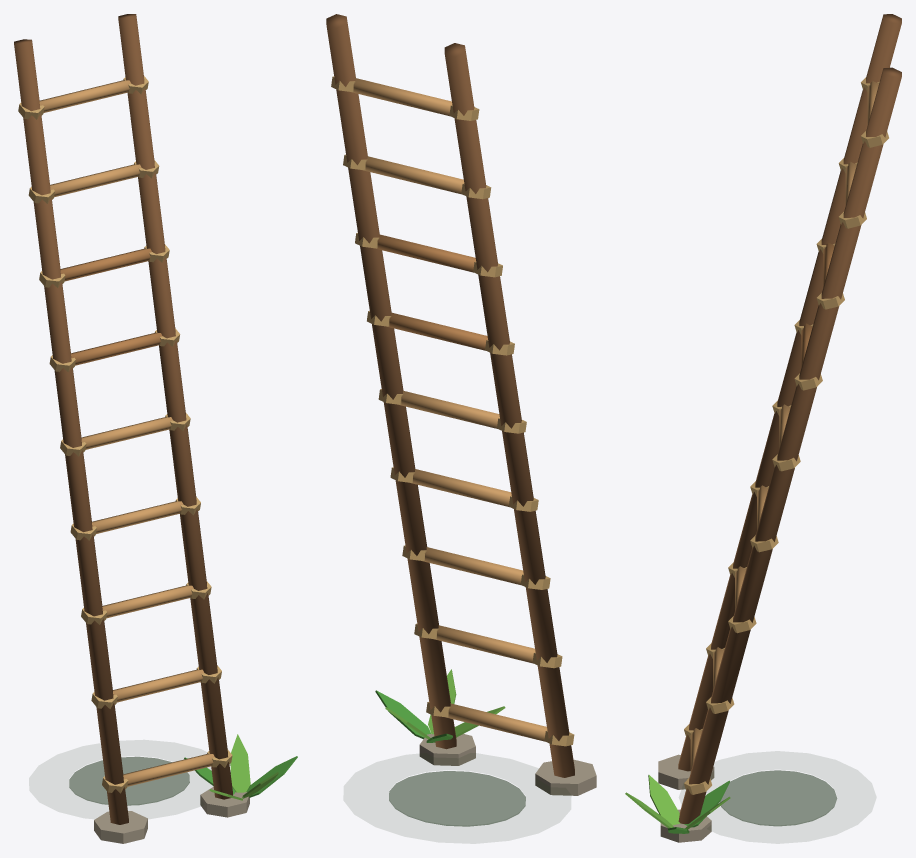
Rendered from ladder.glb.
3 views of the same model, side by side, from view 1: azimuth 30°, elevation 25°; view 2: azimuth 150°, elevation 25°; view 3: azimuth 270°, elevation 25° (orthographic). The views are drawn at different scales.
Visible parts, largest first — view 1: ladder; view 2: ladder; view 3: ladder.
Part boxes in pixels (<box>): ladder: <box>14,14,297,843</box>; ladder: <box>326,14,596,826</box>; ladder: <box>625,14,901,842</box>.
Bounding box in the file's own units: 1.05 × 3.45 × 1.13.
